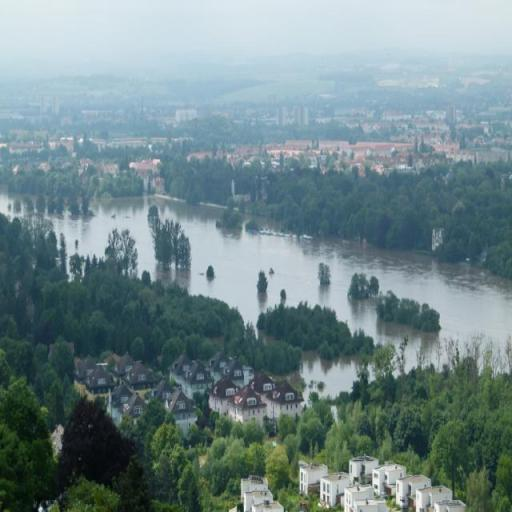flood: (0, 190, 512, 367), (302, 354, 360, 397)
house: (238, 475, 276, 512), (229, 384, 267, 420), (413, 483, 459, 512), (267, 380, 304, 415), (395, 472, 431, 506), (210, 376, 240, 414), (319, 471, 347, 511), (167, 388, 197, 424), (299, 462, 327, 500), (374, 461, 408, 488), (86, 365, 115, 393), (348, 141, 383, 164), (348, 454, 378, 480), (168, 350, 194, 380), (342, 484, 376, 506), (122, 394, 148, 419), (128, 364, 155, 386), (188, 361, 210, 385), (116, 352, 136, 375)
